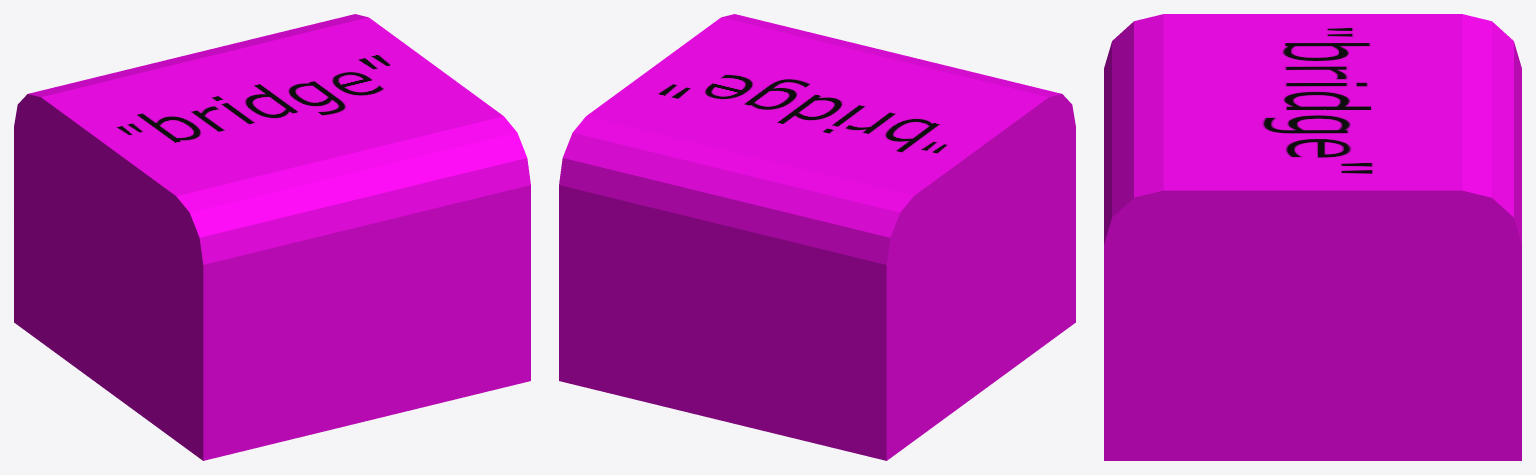
Rendered from bridgeBox.fbx.
3 views of the same model, side by side, from view 1: azimuth 30°, elevation 25°; view 2: azimuth 150°, elevation 25°; view 3: azimuth 270°, elevation 25° (orthographic). The views are drawn at different scales.
Parts seen in each view (by area): view 1: 큐브; view 2: 큐브; view 3: 큐브.
Part boxes in pixels (x1=…): 큐브: x1=14, y1=14, x2=530, y2=460; 큐브: x1=559, y1=14, x2=1075, y2=460; 큐브: x1=1104, y1=14, x2=1521, y2=460.
Bounding box in the file's own units: 70 × 50 × 70.
Materials: 1 (1 with a texture image).
